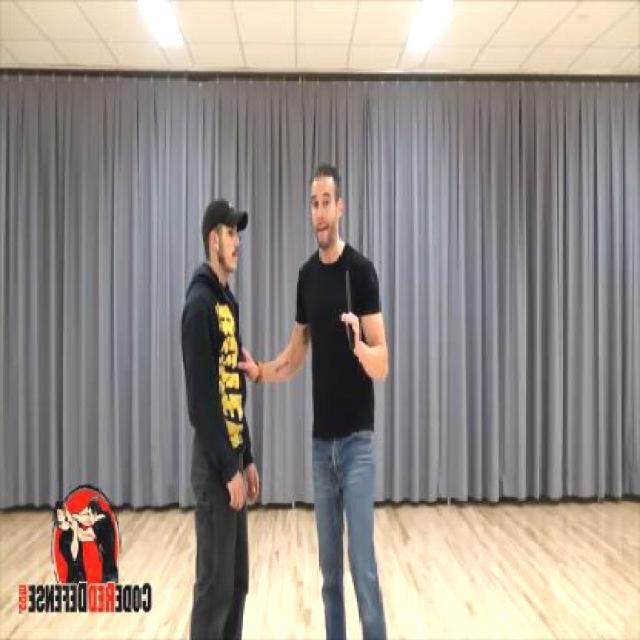knife: (340, 266, 362, 351)
